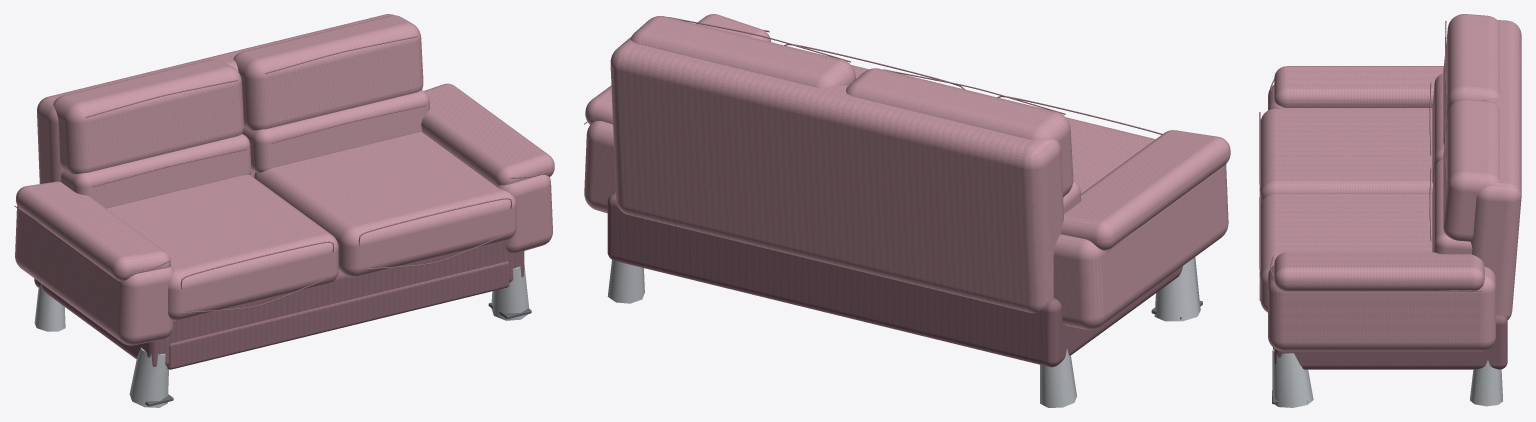
The model's file is Lino-concept.glb.
3 renders of one model, left to right at view 1: azimuth 30°, elevation 25°; view 2: azimuth 150°, elevation 25°; view 3: azimuth 270°, elevation 25°, orthographic. The views are drawn at different scales.
Parts seen in each view (by area): view 1: seat cushion 2, seat cushion 1, upper back cushion 1, upper back cushion 2, left sloped arm core, recessed front shadow, lower shadow plinth, lower back cushion 2, left arm cap, right arm cap, lower back cushion 1, right sloped arm core (+4 smaller); view 2: rear back support, lower shadow plinth, left sloped arm core, left arm cap, upper back cushion 1, upper back cushion 2, seat cushion 1, right sloped arm core, left chrome front foot, right arm cap, left chrome rear foot, right chrome rear foot; view 3: seat cushion 1, right sloped arm core, seat cushion 2, rear back support, right arm cap, left arm cap, upper back cushion 2, upper back cushion 1, lower shadow plinth, right chrome front foot, lower back cushion 2, right chrome rear foot (+2 smaller).
Part boxes in pixels (x1,y1,x2,y2): seat cushion 2: (254, 131, 516, 277); seat cushion 1: (106, 174, 338, 320); upper back cushion 1: (53, 59, 243, 174); upper back cushion 2: (233, 15, 423, 130); left sloped arm core: (15, 205, 173, 345); recessed front shadow: (167, 261, 509, 369); lower shadow plinth: (34, 241, 524, 366); lower back cushion 2: (242, 90, 429, 172); left arm cap: (16, 181, 170, 281); right arm cap: (421, 83, 554, 185); lower back cushion 1: (61, 134, 251, 208); right sloped arm core: (421, 130, 552, 253); rear back support: (610, 37, 1063, 313); lower shadow plinth: (607, 192, 1182, 367); left sloped arm core: (1053, 164, 1228, 329); left arm cap: (1061, 130, 1230, 250); upper back cushion 1: (846, 68, 1073, 196); upper back cushion 2: (630, 16, 855, 87); seat cushion 1: (1066, 117, 1155, 193); right sloped arm core: (584, 121, 615, 213); left chrome front foot: (1154, 257, 1200, 321); right arm cap: (585, 14, 771, 124); left chrome rear foot: (1040, 348, 1076, 407); right chrome rear foot: (607, 260, 644, 303); seat cushion 1: (1260, 108, 1432, 203); right sloped arm core: (1268, 265, 1495, 351); seat cushion 2: (1260, 193, 1432, 312); rear back support: (1471, 20, 1521, 319); right arm cap: (1274, 252, 1484, 291); left arm cap: (1274, 66, 1443, 107); upper back cushion 2: (1443, 99, 1499, 241); upper back cushion 1: (1443, 14, 1499, 145); lower shadow plinth: (1274, 314, 1507, 369); right chrome front foot: (1272, 349, 1313, 407); lower back cushion 2: (1432, 159, 1472, 254); right chrome rear foot: (1470, 360, 1502, 406).
Size of the model in its own units: 1.79 by 0.8916 by 0.946.
5 materials, 2 textured.
